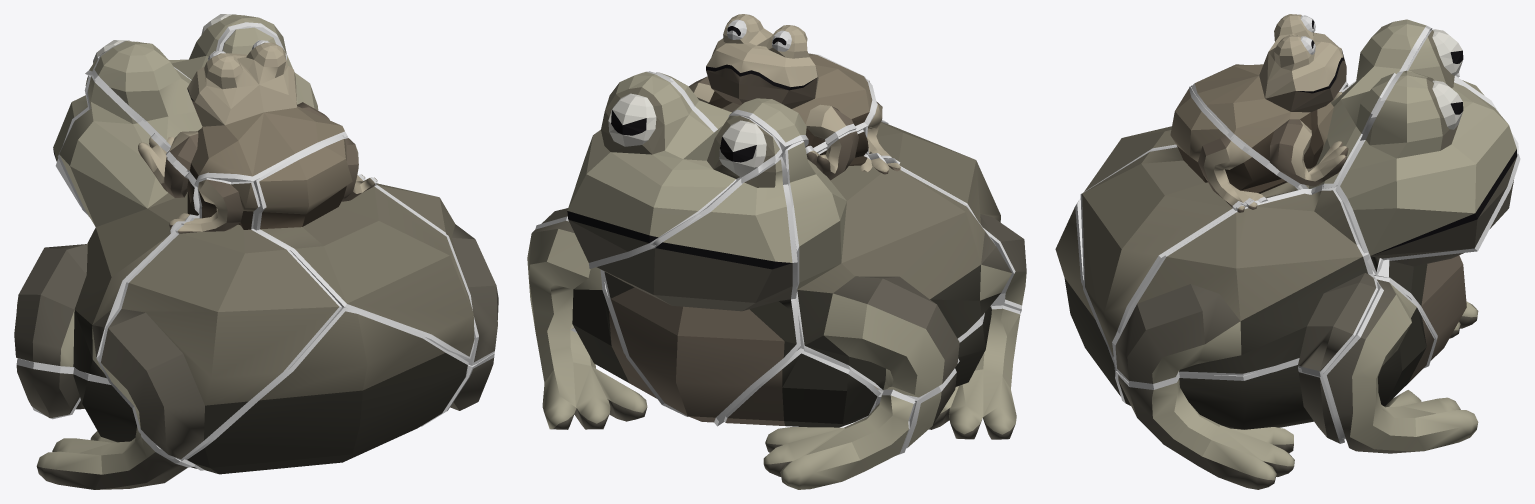
Rendered from v15_frog.fbx.
3 views of the same model, side by side, from view 1: azimuth 30°, elevation 25°; view 2: azimuth 150°, elevation 25°; view 3: azimuth 270°, elevation 25° (orthographic). The views are drawn at different scales.
Visible parts, largest first — view 1: shard4, shard5, shard3, shard1, shard11, shard6, shard10, shard12, gold4, gold1, gold5, gold11 (+5 smaller); view 2: shard5, shard7, shard12, shard9, shard8, shard11, shard6, shard4, gold7, gold5, gold11, gold12 (+3 smaller); view 3: shard10, shard12, shard1, shard11, shard2, shard9, shard7, shard3, gold10, gold12, gold1, shard4 (+4 smaller).
Boxes of the visible parts, x1,y1,x2,y2 form: shard4: [100, 179, 339, 458]; shard5: [14, 76, 198, 378]; shard3: [187, 311, 467, 474]; shard1: [259, 138, 474, 356]; shard11: [94, 27, 344, 179]; shard6: [16, 365, 196, 489]; shard10: [361, 174, 498, 362]; shard12: [89, 14, 318, 110]; gold4: [98, 178, 341, 461]; gold1: [253, 134, 474, 358]; gold5: [24, 75, 199, 367]; gold11: [92, 28, 347, 186]; shard5: [788, 131, 1011, 397]; shard7: [596, 159, 796, 422]; shard12: [567, 72, 779, 262]; shard9: [527, 221, 656, 429]; shard8: [725, 353, 913, 489]; shard11: [659, 14, 872, 147]; shard6: [908, 306, 1020, 447]; shard4: [867, 81, 1026, 305]; gold7: [601, 154, 800, 426]; gold5: [782, 129, 995, 395]; gold11: [656, 72, 876, 156]; gold12: [589, 71, 782, 268]; shard10: [1115, 190, 1375, 383]; shard12: [1340, 29, 1517, 271]; shard1: [1082, 89, 1297, 356]; shard11: [1195, 14, 1426, 188]; shard2: [1118, 365, 1339, 489]; shard9: [1327, 279, 1478, 453]; shard7: [1389, 80, 1513, 360]; shard3: [1055, 206, 1120, 396]; gold10: [1112, 184, 1378, 389]; gold12: [1335, 29, 1520, 276]; gold1: [1080, 86, 1302, 359]; shard4: [1084, 126, 1175, 191].
Size of the model in its own units: 14.05 by 11.08 by 12.88.
